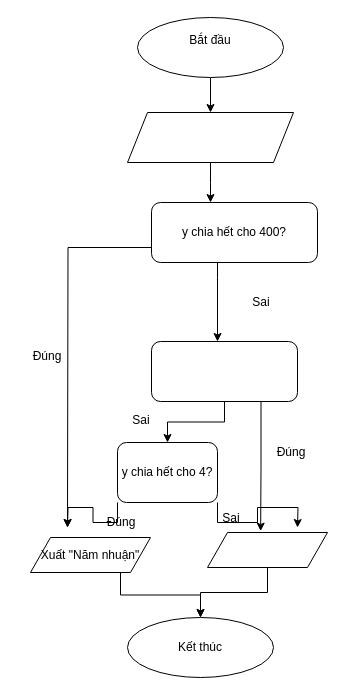
Some shapes in this 345 by 695 pixel diagram are drawn without their labels. Each missing label, with the box of its shape:
Nhập năm y: (126, 112, 294, 162)
Xuất "Không nhuận": (206, 532, 328, 568)
y chia hết cho 100?: (150, 340, 298, 402)
